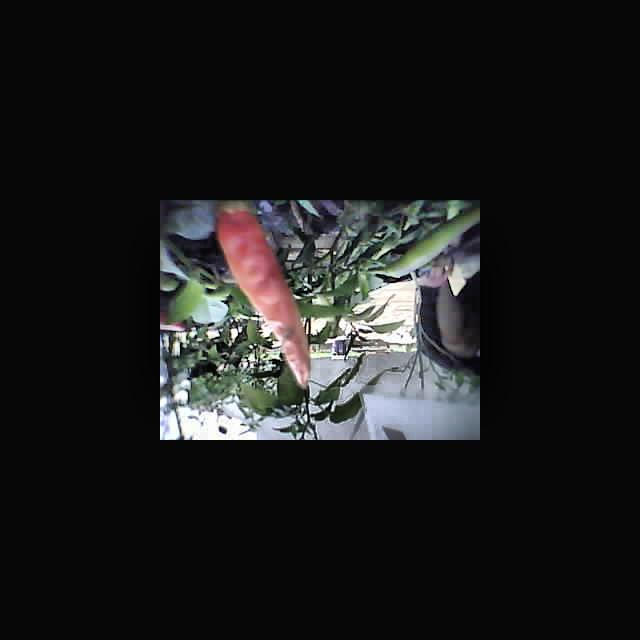Cabai: (219, 203, 332, 395)
